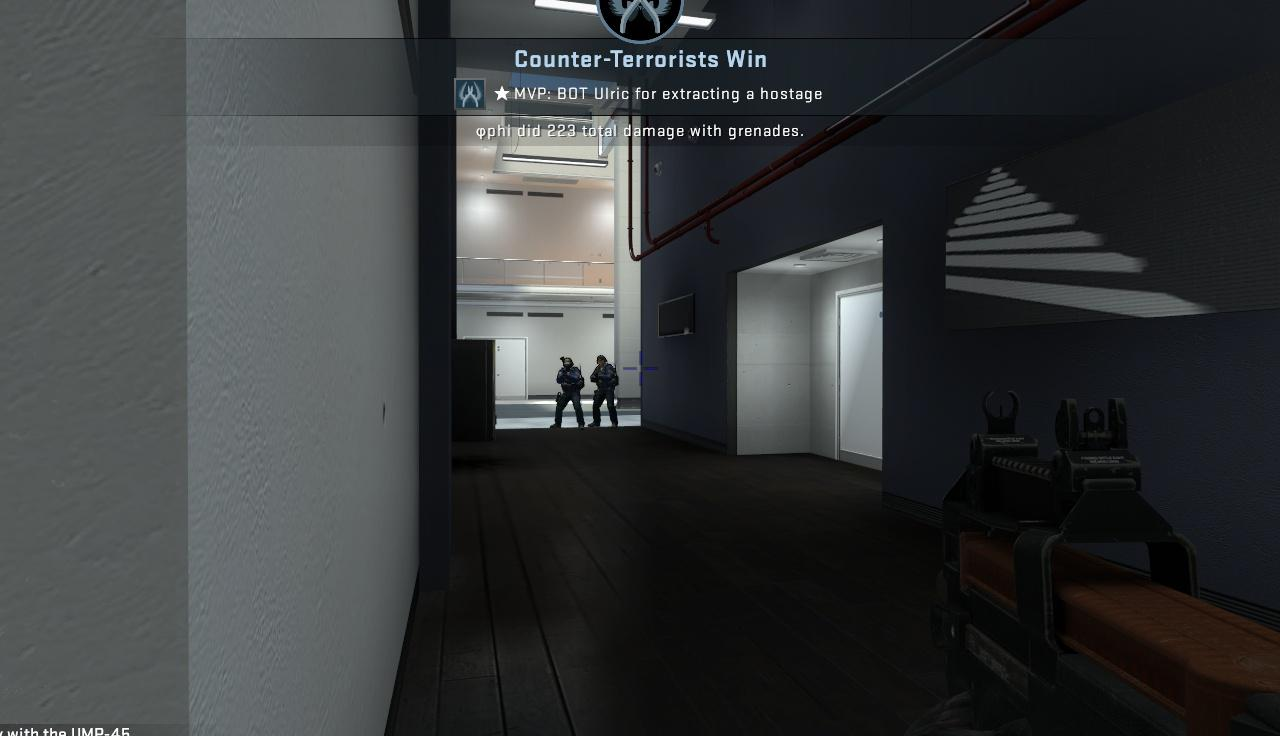ct: (591, 355, 618, 429), (557, 357, 584, 429)
cthead: (563, 358, 572, 368), (597, 356, 606, 365)
rifle: (926, 382, 1280, 736)
